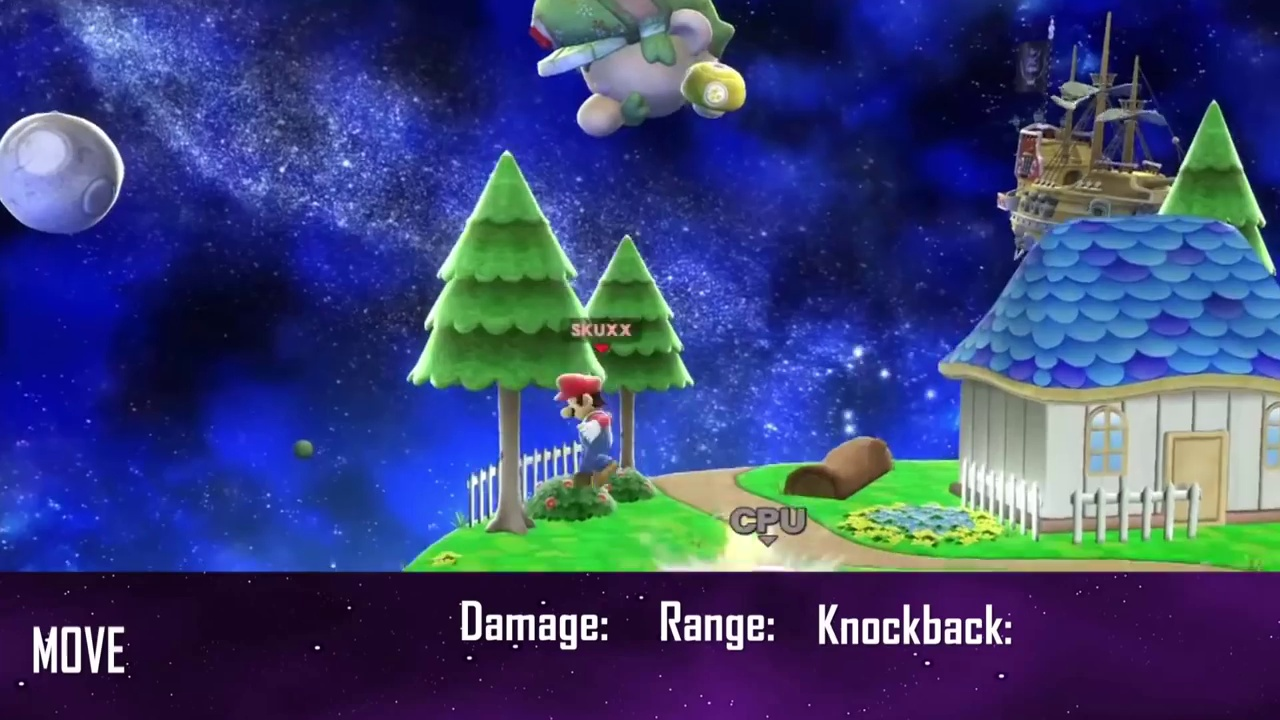Mario: (554, 373, 617, 491)
